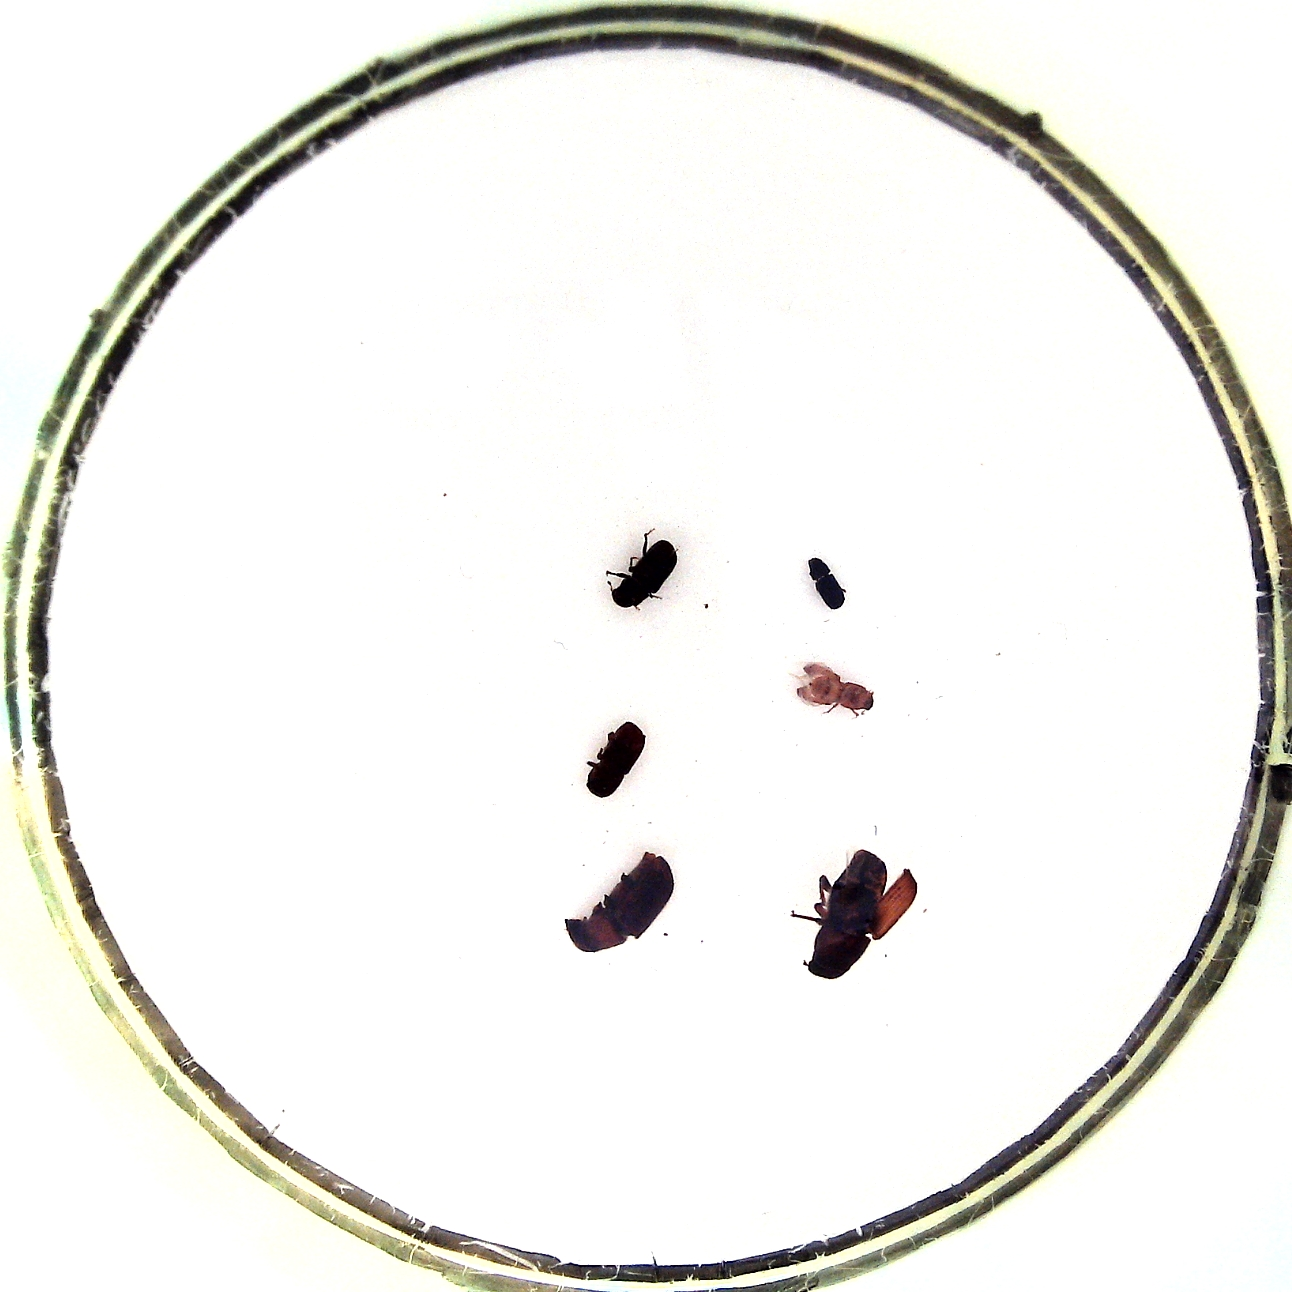Leconte: (789, 845, 919, 981), (566, 848, 678, 956)
Linnaeus: (586, 721, 648, 802)
acuminatus: (793, 661, 880, 717)
armandi: (606, 523, 680, 611)
coleoptera: (802, 553, 852, 613)
